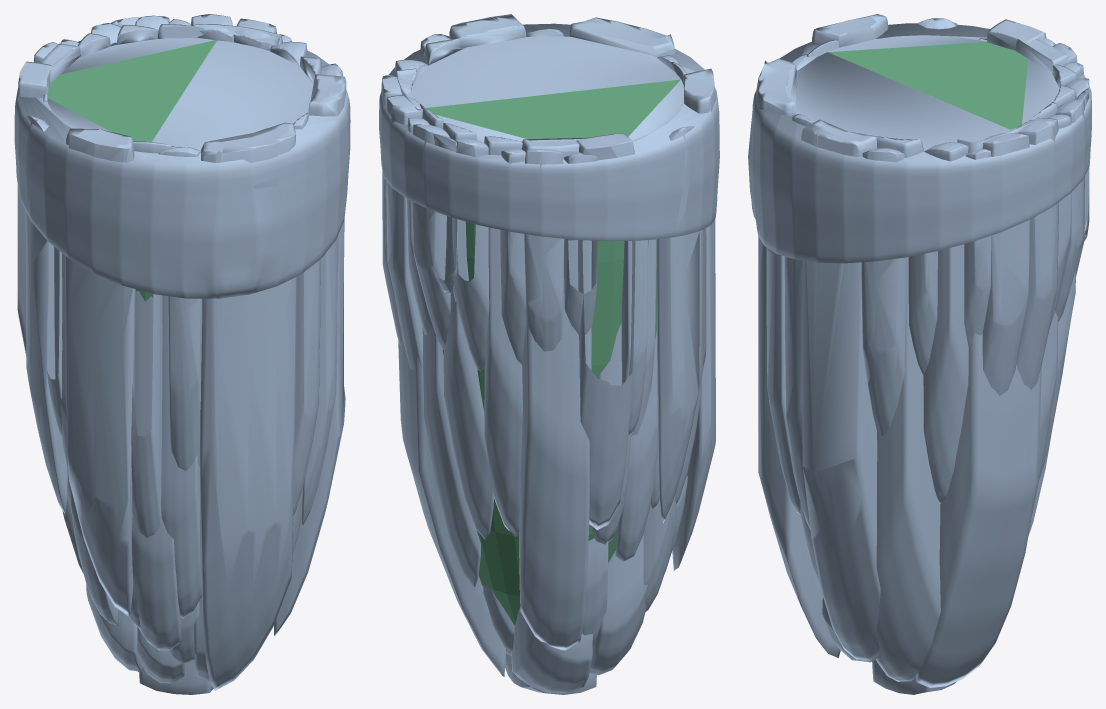
The model's file is Obs_ShootEnemy.fbx.
3 views of the same model, side by side, from view 1: azimuth 30°, elevation 25°; view 2: azimuth 150°, elevation 25°; view 3: azimuth 270°, elevation 25° (orthographic).
Parts seen in each view (by area): view 1: Walls, Liquid; view 2: Walls, Liquid; view 3: Walls, Liquid.
Part boxes in pixels (bbox=[...]): Walls: bbox=[14, 14, 350, 694]; Liquid: bbox=[47, 40, 216, 301]; Walls: bbox=[379, 14, 719, 694]; Liquid: bbox=[422, 79, 680, 625]; Walls: bbox=[748, 14, 1091, 694]; Liquid: bbox=[828, 42, 1028, 374].
Bounding box in the file's own units: 950 × 1852 × 958.
